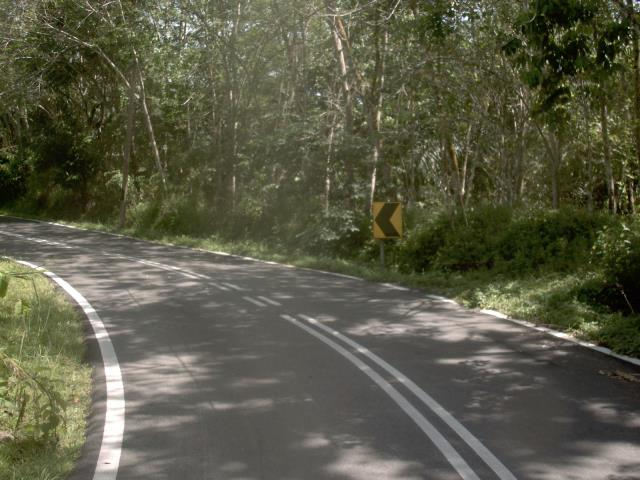traffic_sign: (364, 192, 412, 252)
